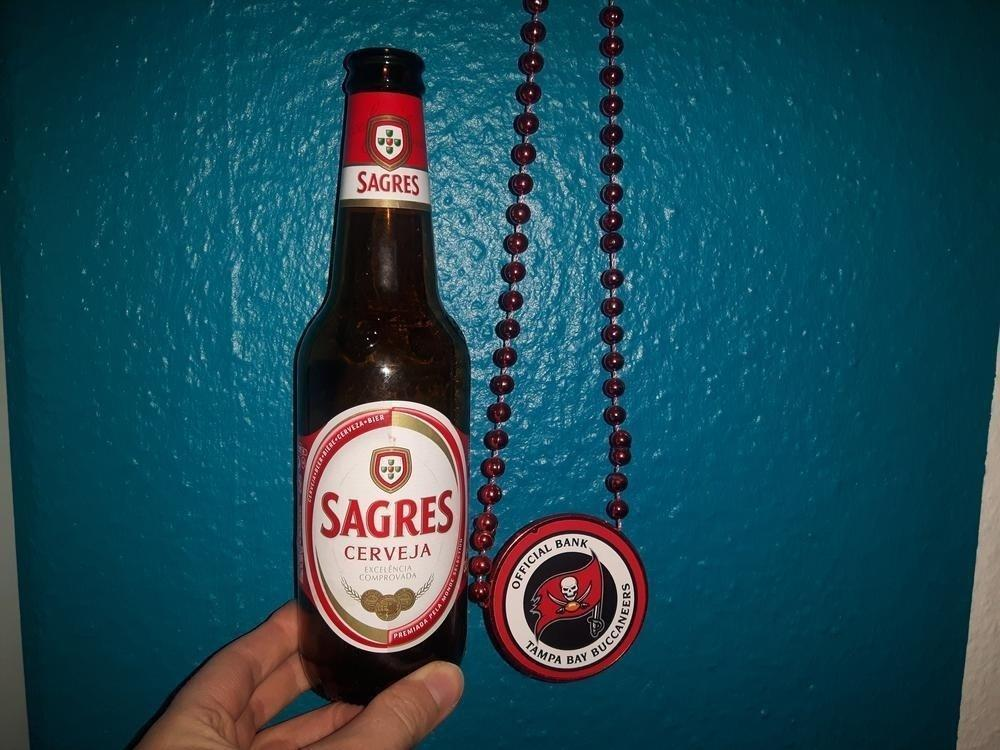bottle-glass: (291, 47, 472, 711)
